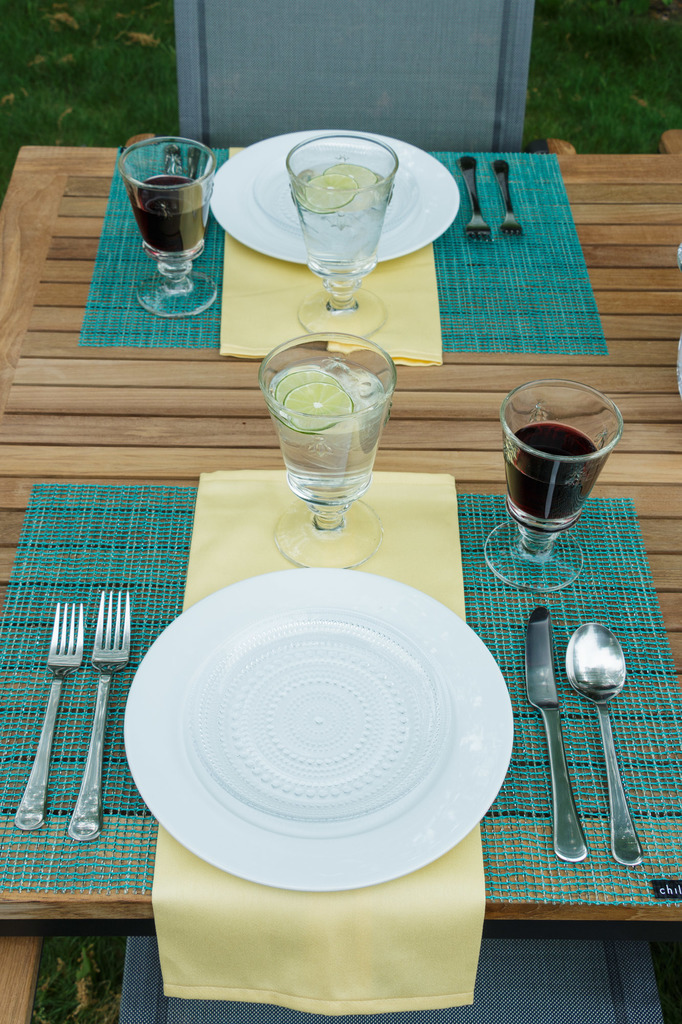plate: (129, 543, 529, 880)
